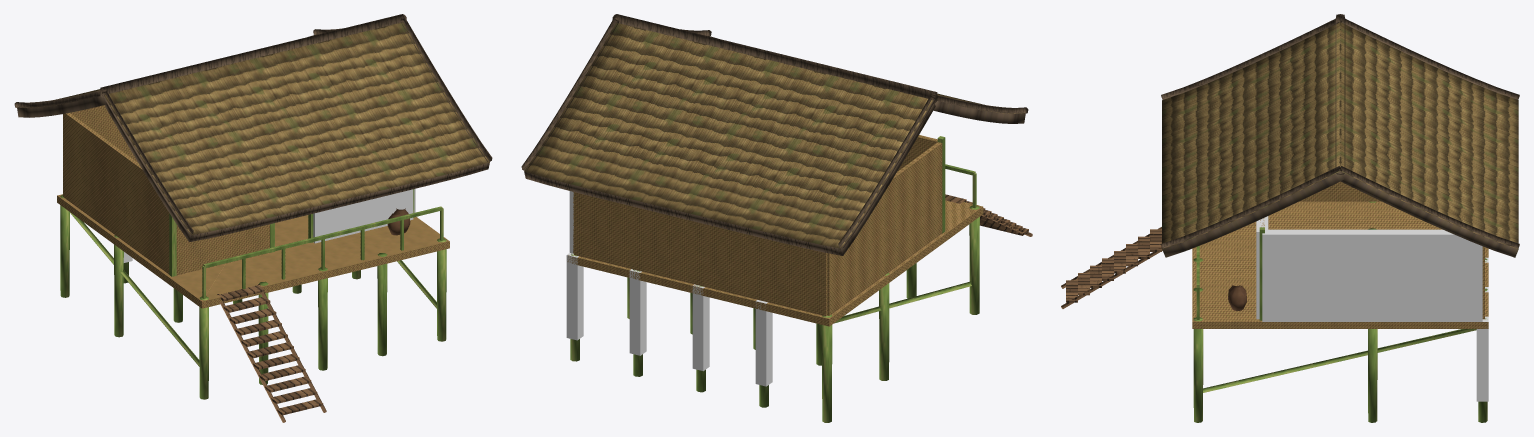
File: stilt_house.glb
3 views of the same model, side by side, from view 1: azimuth 30°, elevation 25°; view 2: azimuth 150°, elevation 25°; view 3: azimuth 270°, elevation 25° (orthographic). The views are drawn at different scales.
Parts seen in each view (by area): view 1: Thatch, Walls, Floor, Stilts, ThatchRidge, Stair, Frame, Front-convcolonly.001; view 2: Thatch, Walls, ThatchRidge, Stilts, Floor, Stilt-convcolonly.004, Stilt-convcolonly.002, Stilt-convcolonly.003, Stilt-convcolonly.001, Stair, Frame; view 3: Thatch, Side-convcolonly.001, Floor, ThatchRidge, Stilts, Stair, Walls, Stilt-convcolonly.004, Frame, Front-convcolonly.001.
Boxes of the visible parts, bbox=[...] form: Thatch: bbox=[17, 22, 489, 242]; Walls: bbox=[63, 105, 269, 275]; Floor: bbox=[57, 194, 449, 308]; Stilts: bbox=[60, 194, 446, 399]; ThatchRidge: bbox=[14, 14, 492, 234]; Stair: bbox=[217, 284, 326, 422]; Frame: bbox=[169, 189, 443, 298]; Front-convcolonly.001: bbox=[313, 189, 413, 243]; Thatch: bbox=[524, 23, 1025, 255]; Walls: bbox=[573, 135, 942, 316]; ThatchRidge: bbox=[521, 14, 1028, 248]; Stilts: bbox=[570, 205, 979, 422]; Floor: bbox=[566, 200, 983, 326]; Stilt-convcolonly.004: bbox=[566, 253, 583, 340]; Stilt-convcolonly.002: bbox=[692, 284, 709, 371]; Stilt-convcolonly.003: bbox=[629, 269, 646, 355]; Stilt-convcolonly.001: bbox=[755, 300, 772, 386]; Stair: bbox=[945, 194, 1032, 236]; Frame: bbox=[937, 136, 976, 233]; Thatch: bbox=[1162, 22, 1518, 257]; Side-convcolonly.001: bbox=[1262, 229, 1482, 321]; Floor: bbox=[1192, 201, 1488, 328]; ThatchRidge: bbox=[1161, 14, 1519, 248]; Stilts: bbox=[1193, 201, 1487, 422]; Stair: bbox=[1061, 227, 1162, 308]; Walls: bbox=[1260, 181, 1484, 319]; Stilt-convcolonly.004: bbox=[1476, 316, 1488, 401]; Frame: bbox=[1196, 227, 1264, 320]; Front-convcolonly.001: bbox=[1256, 216, 1268, 319].
Size of what is drawn, in the model's own units: 8.93 by 7.5 by 11.45.
Materials: 6 (6 with a texture image).
